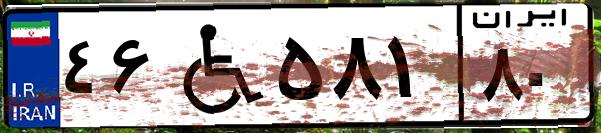0: (525, 38, 570, 115)
1: (385, 28, 445, 110)
4: (57, 26, 110, 100)
5: (270, 28, 330, 110)
6: (110, 28, 158, 98)
8: (330, 28, 385, 110), (475, 38, 525, 113)
ژ (معلولین و جانبازان): (158, 12, 270, 120)
